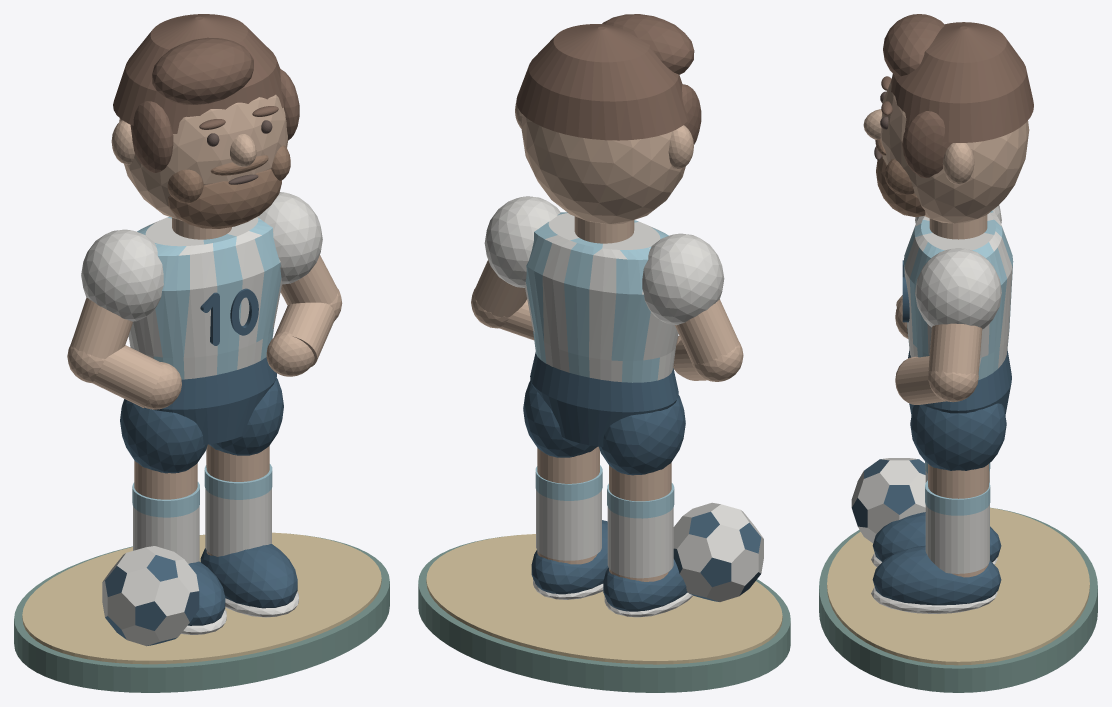
File: footballer-10.glb
3 renders of one model, left to right at view 1: azimuth 30°, elevation 25°; view 2: azimuth 150°, elevation 25°; view 3: azimuth 270°, elevation 25°, orthographic. The views are drawn at different scales.
Visible parts, largest first — view 1: plinth-rim, jersey, oval-plinth, hair-cap, football-truncated-icosahedron, head, sleeve--1, swept-hair, shorts, shorts-leg--1, boot-1, beard (+25 smaller); view 2: plinth-rim, jersey, hair-cap, oval-plinth, head, football-truncated-icosahedron, shorts, sleeve--1, shorts-leg--1, sock--1, sleeve-1, sock-1 (+17 smaller); view 3: plinth-rim, hair-cap, oval-plinth, head, jersey, sleeve-1, shorts-leg-1, boot-1, football-truncated-icosahedron, sock-1, swept-hair, upper-arm-1 (+13 smaller).
Boxes of the visible parts, x1,y1,x2,y2 form: plinth-rim: (22,532,381,664); jersey: (128,216,282,379); oval-plinth: (14,533,389,692); hair-cap: (113,14,283,133); football-truncated-icosahedron: (102,546,199,646); head: (119,94,287,220); sleeve--1: (81,229,163,321); swept-hair: (152,37,253,104); shorts: (135,357,276,444); shorts-leg--1: (120,399,207,473); boot-1: (200,544,297,608); beard: (168,169,281,228); plinth-rim: (426,534,782,664); jersey: (525,212,678,382); hair-cap: (516,24,688,140); oval-plinth: (418,536,790,692); head: (521,115,685,224); football-truncated-icosahedron: (673,502,763,601); shorts: (530,352,678,446); sleeve--1: (642,233,724,325); shorts-leg--1: (599,395,685,475); sock--1: (607,507,673,578); sleeve-1: (484,196,560,287); sock-1: (536,489,601,560); plinth-rim: (827,508,1089,665); hair-cap: (891,22,1033,142); oval-plinth: (819,507,1097,692); head: (880,81,1029,223); jersey: (903,211,1013,379); sleeve-1: (915,248,1001,329); shorts-leg-1: (910,403,1006,470); boot-1: (872,545,1001,605); football-truncated-icosahedron: (851,458,925,543); sock-1: (925,504,989,573); swept-hair: (883,14,944,76); upper-arm-1: (928,323,982,374).
Size of the model in its own units: 0.99 by 1.65 by 0.715.
